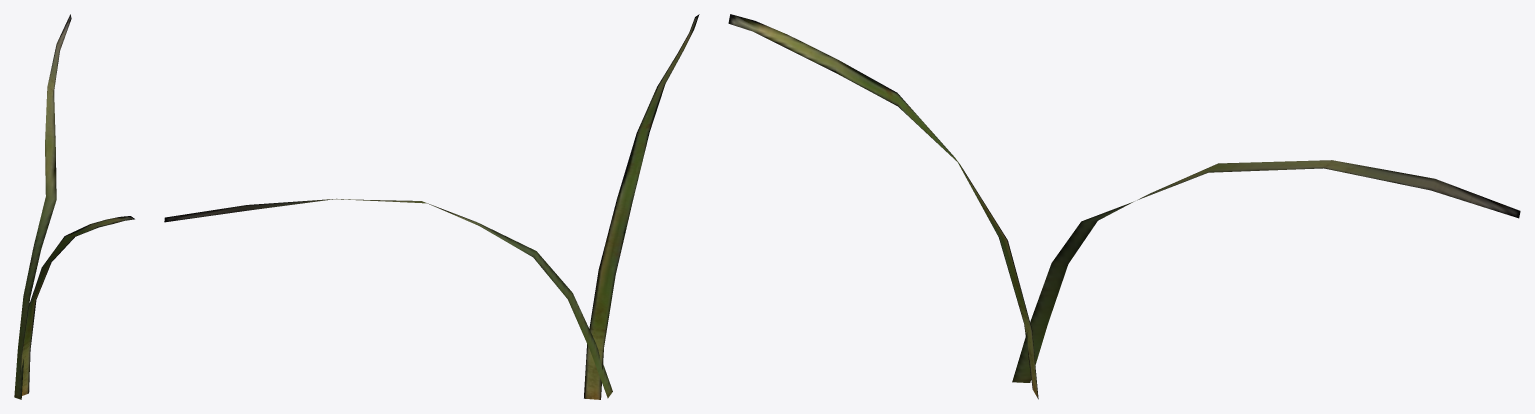
Rendered from SM_Grass_15.gltf.
3 views of the same model, side by side, from view 1: azimuth 30°, elevation 25°; view 2: azimuth 150°, elevation 25°; view 3: azimuth 270°, elevation 25° (orthographic). The views are drawn at different scales.
Visible parts, largest first — view 1: SM_Grass_15; view 2: SM_Grass_15; view 3: SM_Grass_15.
Part boxes in pixels (bbox=[...]): SM_Grass_15: bbox=[14, 14, 134, 399]; SM_Grass_15: bbox=[164, 14, 699, 399]; SM_Grass_15: bbox=[728, 14, 1520, 399].
Size of the model in its own units: 0.043 by 0.0478 by 0.0886.
Materials: 1 (1 with a texture image).
